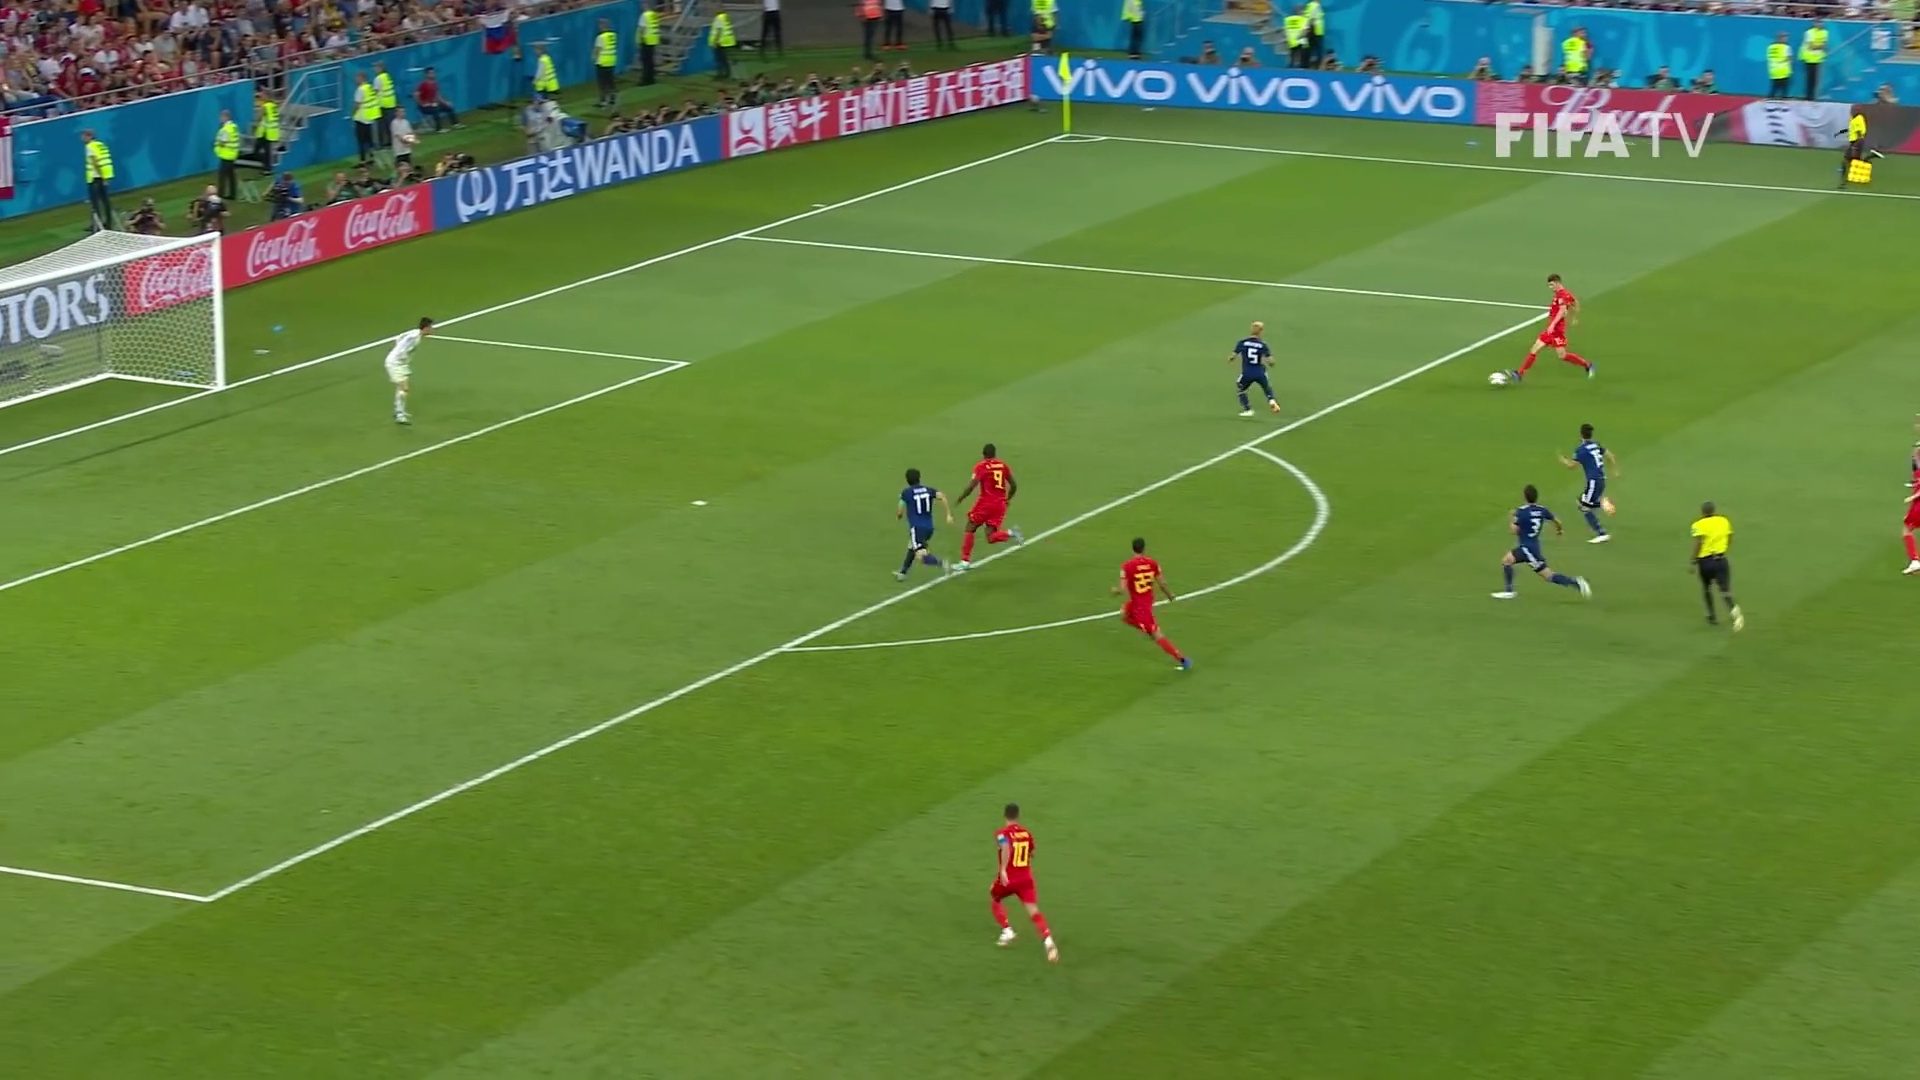ball: (1488, 372, 1506, 388)
person: (989, 805, 1061, 965), (1109, 536, 1189, 668), (1494, 485, 1586, 600), (1513, 273, 1595, 380), (959, 442, 1020, 565), (893, 470, 956, 584), (1561, 427, 1617, 541), (384, 319, 429, 424), (1230, 320, 1279, 417)
